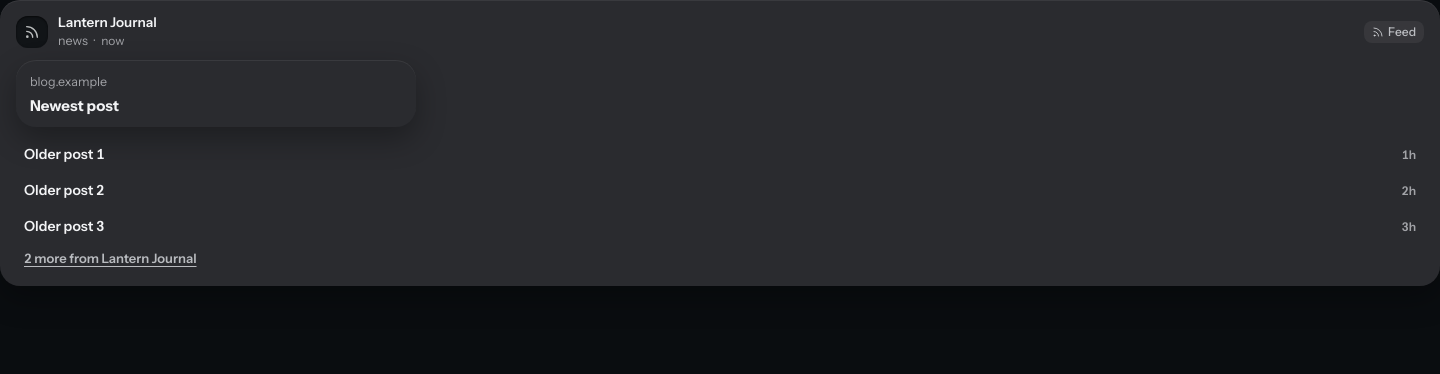
Test: FeedItemMessage › folds a run from one feed under its newest card, three listed and the rest behind a count
Expected: the link "Newest post" is shown, [30,96,119,115]
Click the button "Older post 2 2h": (64, 190) [16,173,1424,209]
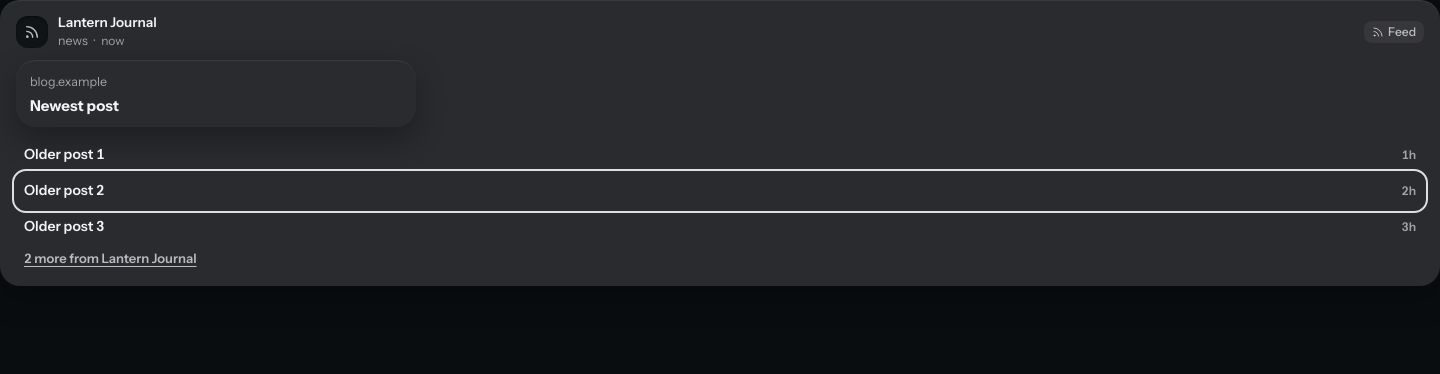
Click the button "2 more from Lantern Journal": (110, 258) [24,248,196,268]
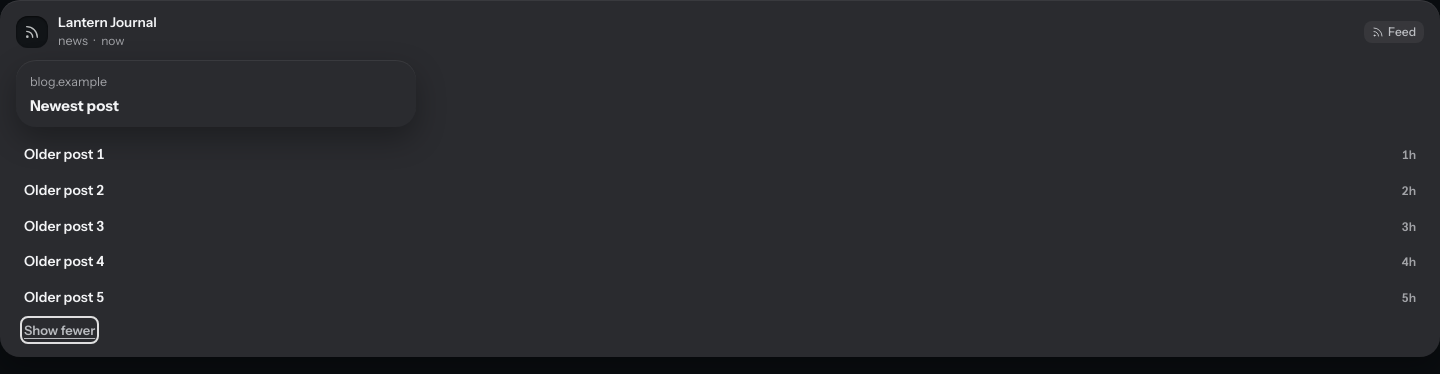
Result: the button "Show fewer" is expanded at [24,320,95,340]
